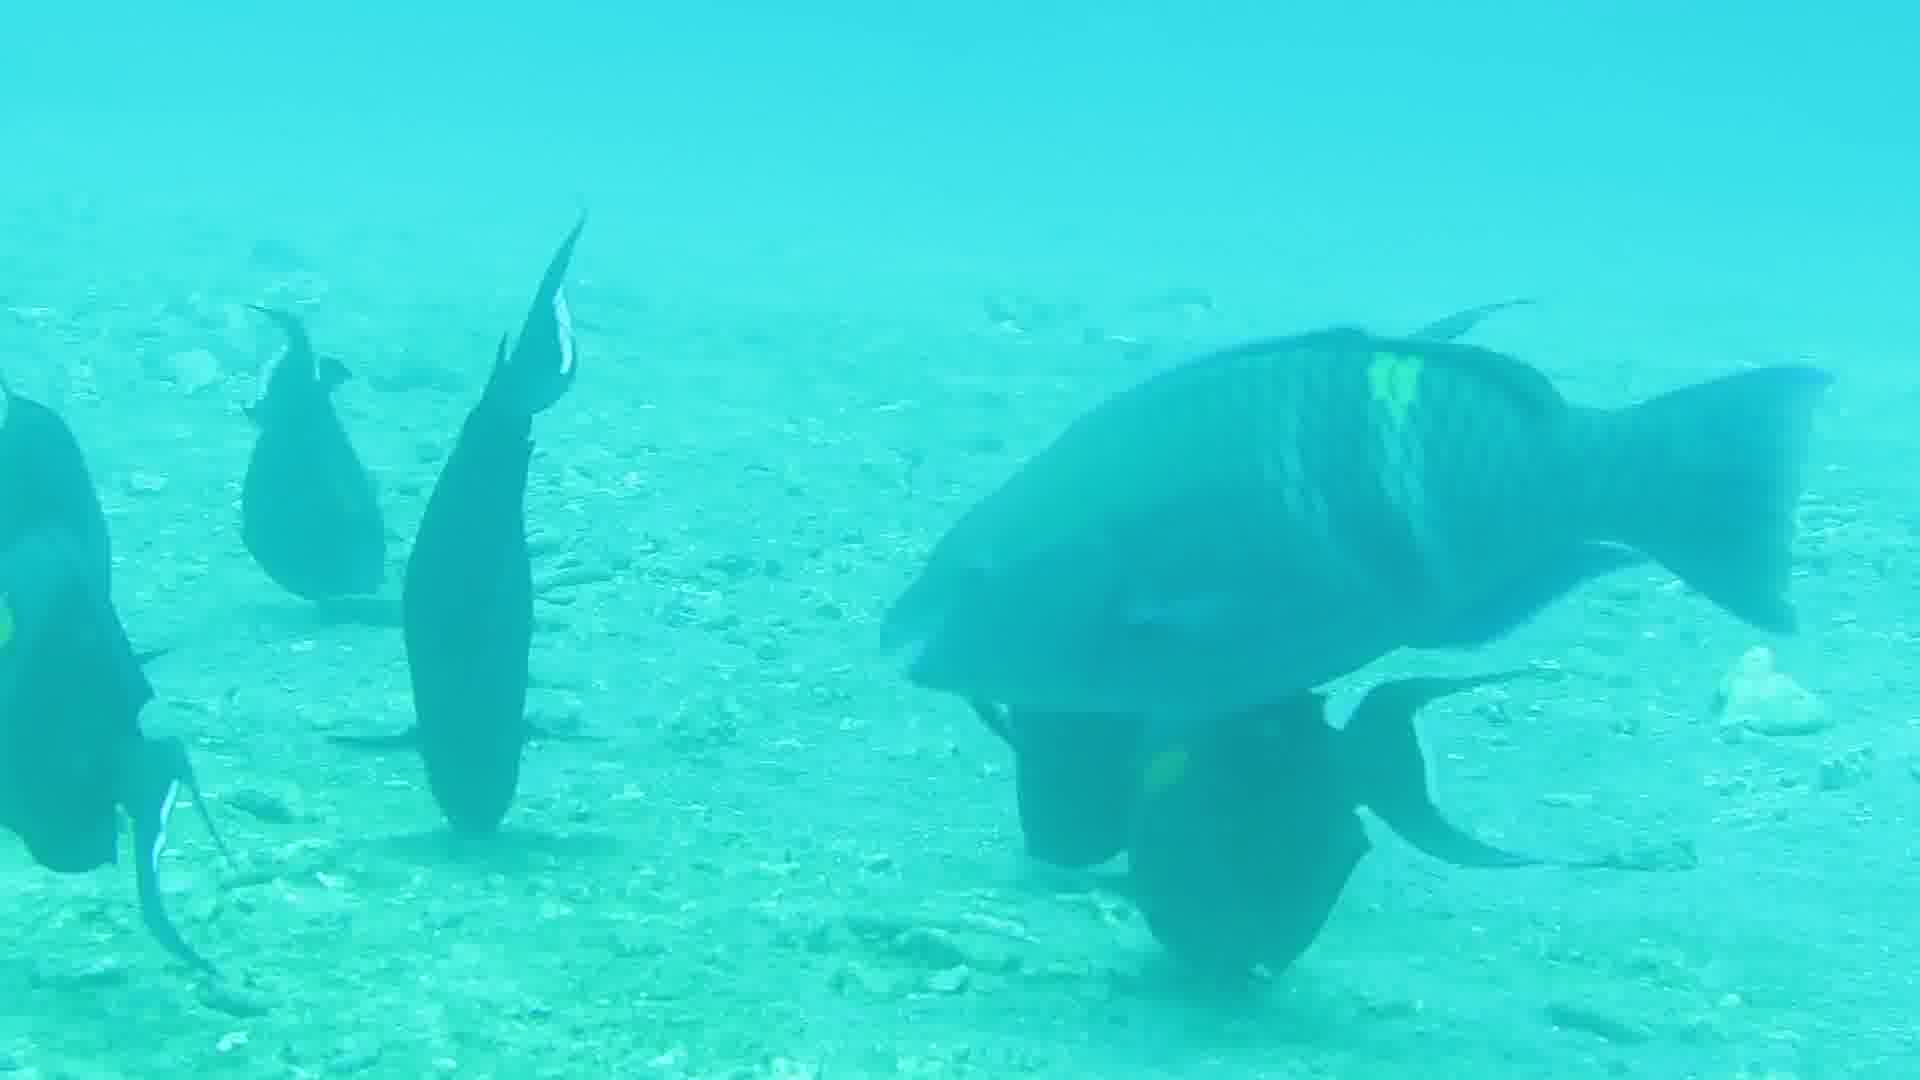Acanthurus olivaceus: (858, 249, 1861, 659), (361, 193, 688, 849), (1116, 560, 1449, 1031), (1, 352, 222, 980), (206, 189, 393, 657)
